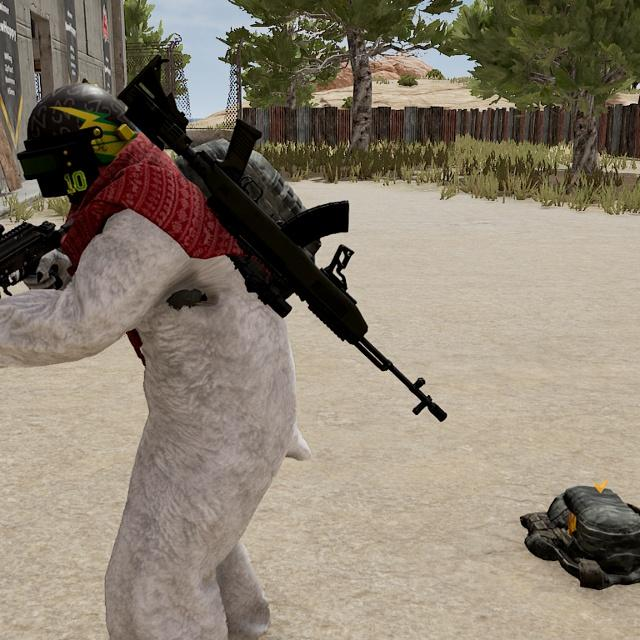head: (9, 77, 146, 208)
people: (4, 69, 302, 640)
